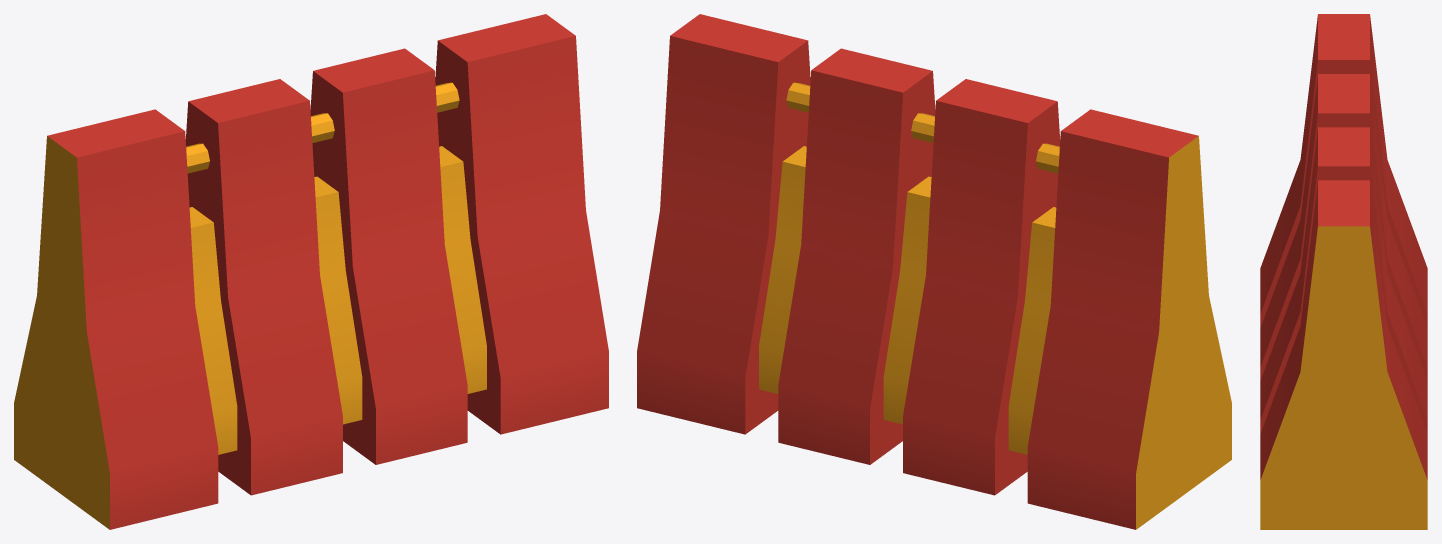
The model's file is Barricade_Plastic_09.fbx.
3 renders of one model, left to right at view 1: azimuth 30°, elevation 25°; view 2: azimuth 150°, elevation 25°; view 3: azimuth 270°, elevation 25°, orthographic. The views are drawn at different scales.
Parts seen in each view (by area): view 1: Obstacle_Barricade_Plastic_09; view 2: Obstacle_Barricade_Plastic_09; view 3: Obstacle_Barricade_Plastic_09.
Part boxes in pixels (x1=…): Obstacle_Barricade_Plastic_09: x1=14, y1=14, x2=608, y2=529; Obstacle_Barricade_Plastic_09: x1=637, y1=14, x2=1231, y2=529; Obstacle_Barricade_Plastic_09: x1=1260, y1=14, x2=1427, y2=529.
Size of the model in its own units: 103 by 68.44 by 34.16.
Materials: 1 (1 with a texture image).
